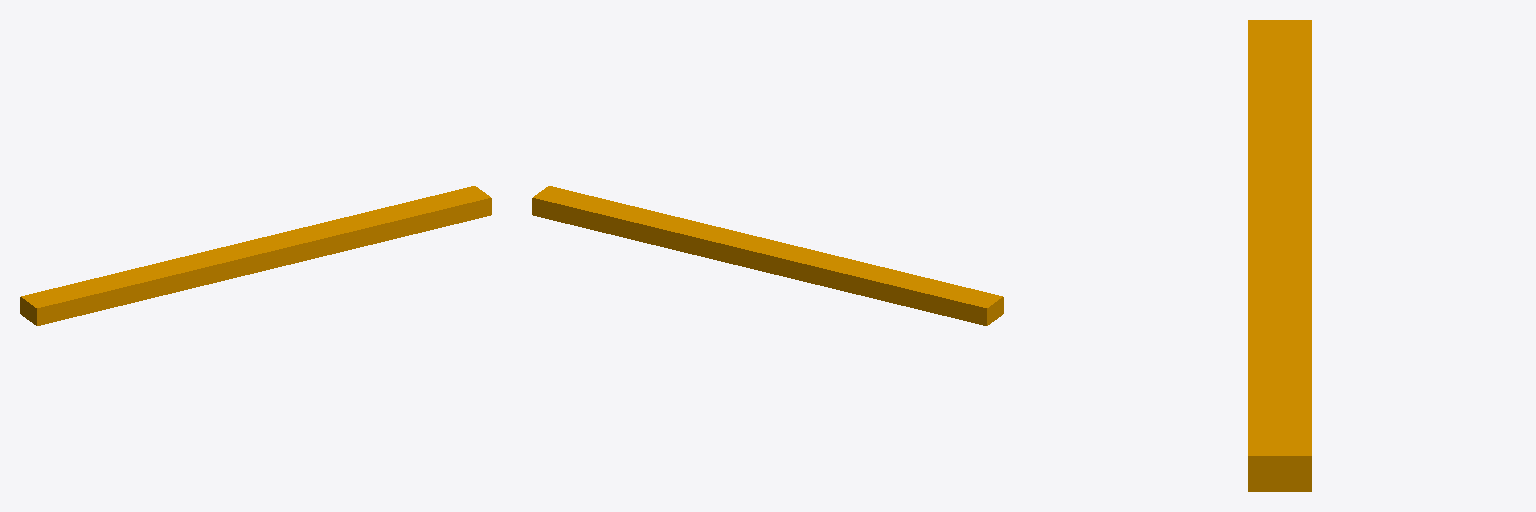
The robot description file, URDF, robot "open_manipulator_x":
<?xml version="1.0" ?>
<!-- =================================================================================== -->
<!-- |    This document was autogenerated by xacro from open_manipulator_x_robot.urdf.xacro | -->
<!-- |    EDITING THIS FILE BY HAND IS NOT RECOMMENDED                                 | -->
<!-- =================================================================================== -->
<robot name="open_manipulator_x">
  <link name="link0">
    <visual>
      <origin rpy="0.0 0.0 0.0" xyz="0.0 0.0 0.0"/>
      <geometry>
        <box size="0.80 0.05 0.03"/>
      </geometry>
      <material name="grey"/>
    </visual>
    <collision>
      <origin rpy="0.0 0.0 0.0" xyz="0.0 0.0 0.0"/>
      <geometry>
        <box size="0.80 0.05 0.03"/>
      </geometry>
    </collision>
    <inertial>
      <mass value="100.0"/>
      <inertia ixx="1.0" ixy="0.0" ixz="0.0" iyy="1.0" iyz="0.0" izz="1.0"/>
    </inertial>
  </link>
  <link name="link1">
    <visual>
      <origin rpy="0 0 0" xyz="0 0 0"/>
      <geometry>
        <mesh filename="file://[local-path]/TTR_ws/install/open_manipulator_x_description/share/open_manipulator_x_description/meshes/chain_link1.stl" scale="0.001 0.001 0.001"/>
      </geometry>
      <meterial name="grey"/>
    </visual>
    <collision>
      <origin rpy="0 0 0" xyz="0 0 0"/>
      <geometry>
        <mesh filename="file://[local-path]/TTR_ws/install/open_manipulator_x_description/share/open_manipulator_x_description/meshes/chain_link1.stl" scale="0.001 0.001 0.001"/>
      </geometry>
    </collision>
    <inertial>
      <origin xyz="3.0876154e-04 0.0000000e+00 -1.2176461e-04"/>
      <mass value="7.9119962e-02"/>
      <inertia ixx="1.2505234e-05" ixy="0.0" ixz="-1.7855208e-07" iyy="2.1898364e-05" iyz="0.0" izz="1.9267361e-05"/>
    </inertial>
  </link>
  <link name="link2">
    <visual>
      <origin rpy="0.0 0.0 0.0" xyz="0 0 0.019"/>
      <geometry>
        <mesh filename="file://[local-path]/TTR_ws/install/open_manipulator_x_description/share/open_manipulator_x_description/meshes/chain_link2.stl" scale="0.001 0.001 0.001"/>
      </geometry>
      <meterial name="grey"/>
    </visual>
    <collision>
      <origin rpy="0.0 0.0 0.0" xyz="0.0 0.0 0.019"/>
      <geometry>
        <mesh filename="file://[local-path]/TTR_ws/install/open_manipulator_x_description/share/open_manipulator_x_description/meshes/chain_link2.stl" scale="0.001 0.001 0.001"/>
      </geometry>
    </collision>
    <inertial>
      <origin xyz="-3.0184870e-04 5.4043684e-04 0.047433464e-02"/>
      <mass value="9.8406837e-02"/>
      <inertia ixx="3.4543422e-05" ixy="-1.6031095e-08" ixz="-3.8375155e-07" iyy="3.2689329e-05" iyz="2.8511935e-08" izz="1.8850320e-05"/>
    </inertial>
  </link>
  <link name="link3">
    <visual>
      <origin rpy="0.0 0.0 0.0" xyz="0.0 0.0 0.0"/>
      <geometry>
        <mesh filename="file://[local-path]/TTR_ws/install/open_manipulator_x_description/share/open_manipulator_x_description/meshes/chain_link3.stl" scale="0.001 0.001 0.001"/>
      </geometry>
      <material name="grey"/>
    </visual>
    <collision>
      <origin rpy="0.0 0.0 0.0" xyz="0.0 0.0 0.0"/>
      <geometry>
        <mesh filename="file://[local-path]/TTR_ws/install/open_manipulator_x_description/share/open_manipulator_x_description/meshes/chain_link3.stl" scale="0.001 0.001 0.001"/>
      </geometry>
    </collision>
    <inertial>
      <origin xyz="1.0308393e-02 3.7743363e-04 1.0170197e-01"/>
      <mass value="1.3850917e-01"/>
      <inertia ixx="3.3055381e-04" ixy="-9.7940978e-08" ixz="-3.8505711e-05" iyy="3.4290447e-04" iyz="-1.5717516e-06" izz="6.0346498e-05"/>
    </inertial>
  </link>
  <link name="link4">
    <visual>
      <origin rpy="0.0 0.0 0.0" xyz="0.0 0.0 0.0"/>
      <geometry>
        <mesh filename="file://[local-path]/TTR_ws/install/open_manipulator_x_description/share/open_manipulator_x_description/meshes/chain_link4.stl" scale="0.001 0.001 0.001"/>
      </geometry>
      <material name="grey"/>
    </visual>
    <collision>
      <origin rpy="0.0 0.0 0.0" xyz="0.0 0.0 0.0"/>
      <geometry>
        <mesh filename="file://[local-path]/TTR_ws/install/open_manipulator_x_description/share/open_manipulator_x_description/meshes/chain_link4.stl" scale="0.001 0.001 0.001"/>
      </geometry>
    </collision>
    <inertial>
      <origin xyz="4.4206755e-02 3.6839985e-07 8.9142216e-03"/>
      <mass value="1.4327573e-01"/>
      <inertia ixx="8.0870749e-05" ixy="0.0" ixz="-1.0157896e-06" iyy="7.5980465e-05" iyz="0.0" izz="9.3127351e-05"/>
    </inertial>
  </link>
  <link name="paddle">
    <visual>
      <origin rpy="0.0 0.0 0.0" xyz="0.0 0.0 0.0"/>
      <geometry>
        <mesh filename="file://[local-path]/TTR_ws/install/open_manipulator_x_description/share/open_manipulator_x_description/meshes/paddle.stl" scale="0.0005 0.0005 0.0005"/>
      </geometry>
      <material name="grey"/>
    </visual>
    <collision>
      <origin rpy="0.0 0.0 0.0" xyz="0.0 0.0 0.0"/>
      <geometry>
        <mesh filename="file://[local-path]/TTR_ws/install/open_manipulator_x_description/share/open_manipulator_x_description/meshes/paddle.stl" scale="0.0005 0.0005 0.0005"/>
      </geometry>
    </collision>
    <inertial>
      <origin xyz="0 0 0"/>
      <mass value="2.0e-03"/>
      <inertia ixx="2.0e-03" ixy="0.0" ixz="0.0" iyy="2.0e-03" iyz="0.0" izz="2.0e-03"/>
    </inertial>
  </link>
  <joint name="prismatic_joint" type="prismatic">
    <axis xyz="0 1 0"/>
    <origin rpy="0 0 -1.5707" xyz="0.0 0.0 0.015"/>
    <parent link="link0"/>
    <child link="link1"/>
    <limit effort="1.0" lower="-0.4" upper="0.4" velocity="5"/>
    <dynamics damping="1.0" friction="1.0"/>
  </joint>
  <joint name="joint1" type="revolute">
    <origin rpy="0 0 0" xyz="0.012 0.0 0.017"/>
    <parent link="link1"/>
    <child link="link2"/>
    <axis xyz="0 0 1"/>
    <limit effort="1" lower="-2.82743338823" upper="2.82743338823" velocity="4.8"/>
    <dynamics damping="1.0" friction="1.0"/>
  </joint>
  <joint name="joint2" type="revolute">
    <origin rpy="0 0 0" xyz="0.0 0.0 0.0595"/>
    <parent link="link2"/>
    <child link="link3"/>
    <axis xyz="0 1 0"/>
    <limit effort="1" lower="-1.79070781255" upper="1.57079632679" velocity="4.8"/>
    <dynamics damping="1.0" friction="1.0"/>
  </joint>
  <joint name="joint3" type="revolute">
    <origin rpy="0 0 0" xyz="0.004 -0.026 0.108"/>
    <parent link="link3"/>
    <child link="link4"/>
    <axis xyz="0 1 0"/>
    <limit effort="1" lower="-0.94247779607" upper="1.38230076758" velocity="4.8"/>
    <dynamics damping="1.0" friction="1.0"/>
  </joint>
  <joint name="joint4" type="revolute">
    <origin rpy="0 1.5707 0" xyz="0.091989 0.026 0.01999"/>
    <parent link="link4"/>
    <child link="paddle"/>
    <axis xyz="0 0 1"/>
    <limit effort="1" lower="-3.14" upper="3.14" velocity="4.8"/>
    <dynamics damping="1.0" friction="1.0"/>
  </joint>
  <gazebo reference="link1">
    <material>Gazebo/DarkGrey</material>
    <selfCollide>True</selfCollide>
  </gazebo>
  <gazebo reference="link2">
    <material>Gazebo/Red</material>
    <selfCollide>True</selfCollide>
  </gazebo>
  <gazebo reference="link3">
    <material>Gazebo/Green</material>
    <selfCollide>True</selfCollide>
  </gazebo>
  <gazebo reference="link4">
    <material>Gazebo/Blue</material>
    <selfCollide>True</selfCollide>
  </gazebo>
  <gazebo reference="paddle">
    <material>Gazebo/Yellow</material>
    <selfCollide>True</selfCollide>
  </gazebo>
  <ros2_control name="GazeboSystem" type="system">
    <hardware>
      <plugin>gazebo_ros2_control/GazeboSystem</plugin>
    </hardware>
    <joint name="prismatic_joint">
      <command_interface name="position">
        <param name="min">-0.4</param>
        <param name="max">0.4</param>
      </command_interface>
      <state_interface name="position"/>
      <state_interface name="velocity"/>
      <state_interface name="effort"/>
    </joint>
    <joint name="joint1">
      <command_interface name="position">
        <param name="min">-2.82743338823</param>
        <param name="max">2.82743338823</param>
      </command_interface>
      <state_interface name="position"/>
      <state_interface name="velocity"/>
      <state_interface name="effort"/>
    </joint>
    <joint name="joint2">
      <command_interface name="position">
        <param name="min">-1.79070781255</param>
        <param name="max">1.57079632679</param>
      </command_interface>
      <state_interface name="position"/>
      <state_interface name="velocity"/>
      <state_interface name="effort"/>
    </joint>
    <joint name="joint3">
      <command_interface name="position">
        <param name="min">-0.94247779607</param>
        <param name="max">1.38230076758</param>
      </command_interface>
      <state_interface name="position"/>
      <state_interface name="velocity"/>
      <state_interface name="effort"/>
    </joint>
    <joint name="joint4">
      <command_interface name="position">
        <param name="min">-3.14</param>
        <param name="max">3.14</param>
      </command_interface>
      <state_interface name="position"/>
      <state_interface name="velocity"/>
      <state_interface name="effort"/>
    </joint>
  </ros2_control>
  <gazebo>
    <plugin filename="libgazebo_ros2_control.so" name="gazebo_ros2_control">
      <!--robot_sim_type>gazebo_ros2_control/DefaultRobotHWSim</robot_sim_type-->
      <robotNamespace>/open_manipulator_x</robotNamespace>
      <robot_sim_type>gazebo_ros2_control/GazeboSystem</robot_sim_type>
      <parameters>[local-path]/TTR_ws/install/open_manipulator_x_description/share/open_manipulator_x_description/config/open_manipulator_x_controller.yaml</parameters>
    </plugin>
  </gazebo>
  <transmission name="tran1">
    <type>transmission_interface/SimpleTransmission</type>
    <joint name="joint1">
      <hardwareInterface>hardware_interface/PositionJointInterface</hardwareInterface>
    </joint>
    <actuator name="motor1">
      <hardwareInterface>hardware_interface/PositionJointInterface</hardwareInterface>
      <mechanicalReduction>1</mechanicalReduction>
    </actuator>
  </transmission>
  <transmission name="tran2">
    <type>transmission_interface/SimpleTransmission</type>
    <joint name="joint2">
      <hardwareInterface>hardware_interface/PositionJointInterface</hardwareInterface>
    </joint>
    <actuator name="motor2">
      <hardwareInterface>hardware_interface/PositionJointInterface</hardwareInterface>
      <mechanicalReduction>1</mechanicalReduction>
    </actuator>
  </transmission>
  <transmission name="tran3">
    <type>transmission_interface/SimpleTransmission</type>
    <joint name="joint3">
      <hardwareInterface>hardware_interface/PositionJointInterface</hardwareInterface>
    </joint>
    <actuator name="motor3">
      <hardwareInterface>hardware_interface/PositionJointInterface</hardwareInterface>
      <mechanicalReduction>1</mechanicalReduction>
    </actuator>
  </transmission>
  <transmission name="tran4">
    <type>transmission_interface/SimpleTransmission</type>
    <joint name="joint4">
      <hardwareInterface>hardware_interface/PositionJointInterface</hardwareInterface>
    </joint>
    <actuator name="motor4">
      <hardwareInterface>hardware_interface/PositionJointInterface</hardwareInterface>
      <mechanicalReduction>1</mechanicalReduction>
    </actuator>
  </transmission>
  <transmission name="tran5">
    <type>transmission_interface/SimpleTransmission</type>
    <joint name="prismatic_joint">
      <hardwareInterface>hardware_interface/EffortJointInterface</hardwareInterface>
    </joint>
    <actuator name="motor5">
      <mechanicalReduction>1</mechanicalReduction>
    </actuator>
  </transmission>
  <link name="world"/>
  <joint name="world_fixed" type="fixed">
    <origin rpy="0 0 0" xyz="0 0 0"/>
    <parent link="world"/>
    <child link="link0"/>
  </joint>
</robot>

--- Facts derived from the render (not from the file) ---
The picture shows the robot from 3 angles, left to right: view 1: azimuth 30°, elevation 25°; view 2: azimuth 150°, elevation 25°; view 3: azimuth 270°, elevation 25°; orthographic projection.
Model open_manipulator_x with 7 links and 6 joints (4 revolute, 1 prismatic, 1 fixed), rooted at world, posed every joint at zero.
Links seen in each view (by area): view 1: link0; view 2: link0; view 3: link0.
Boxes of the visible links, x1,y1,x2,y2 form: link0: (20,186,491,325); link0: (532,186,1003,325); link0: (1248,20,1311,491).
Bounding box of the posed robot: 0.8 × 0.05 × 0.03 m (x, y, z).
Geometry: only primitive shapes (box / cylinder / sphere) drawn; not drawn: 5 mesh visuals (reference in a form the renderer does not follow).